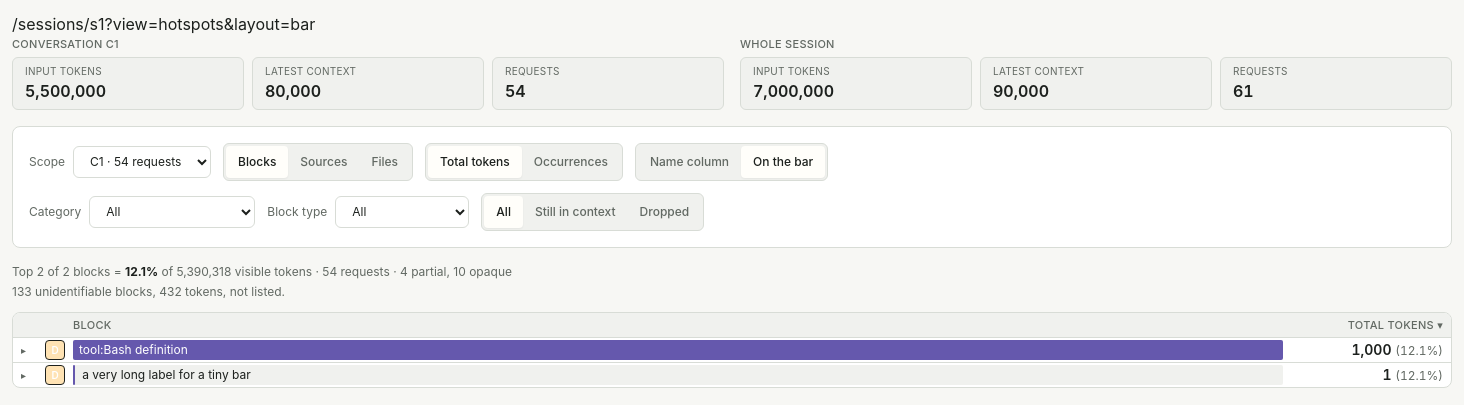
Test: HotSpots › can put the label on the bar (layout=bar)
Click the button "Name column". click: (690, 162)
box: [638,146,741,178]
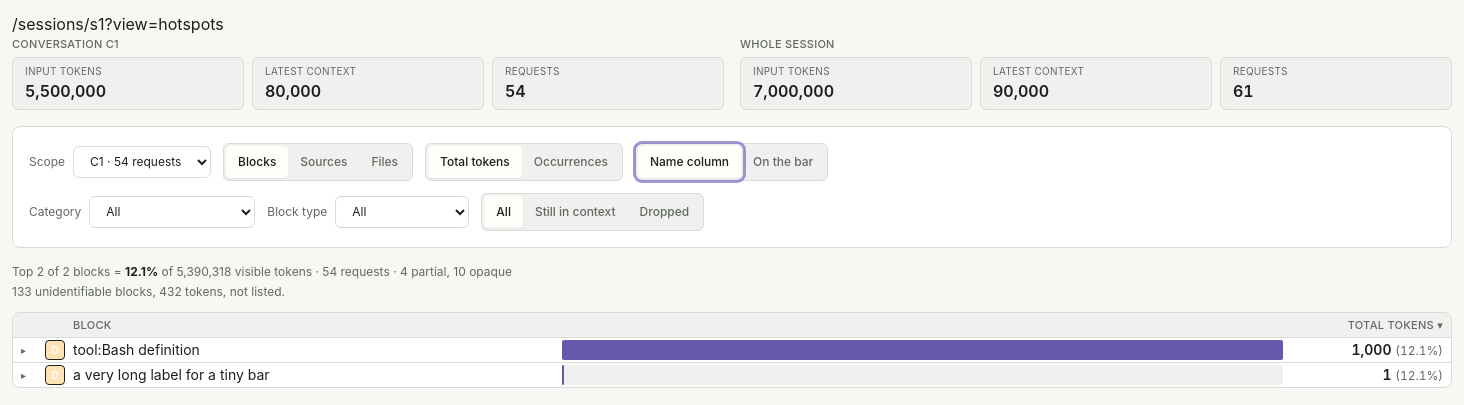
expect the text with test id "location" no longer shows "layout=": met
